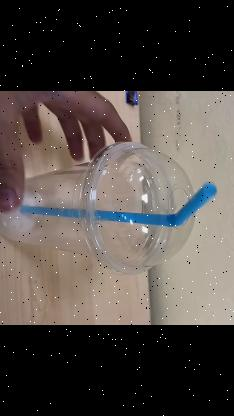Others: (0, 143, 215, 275)
